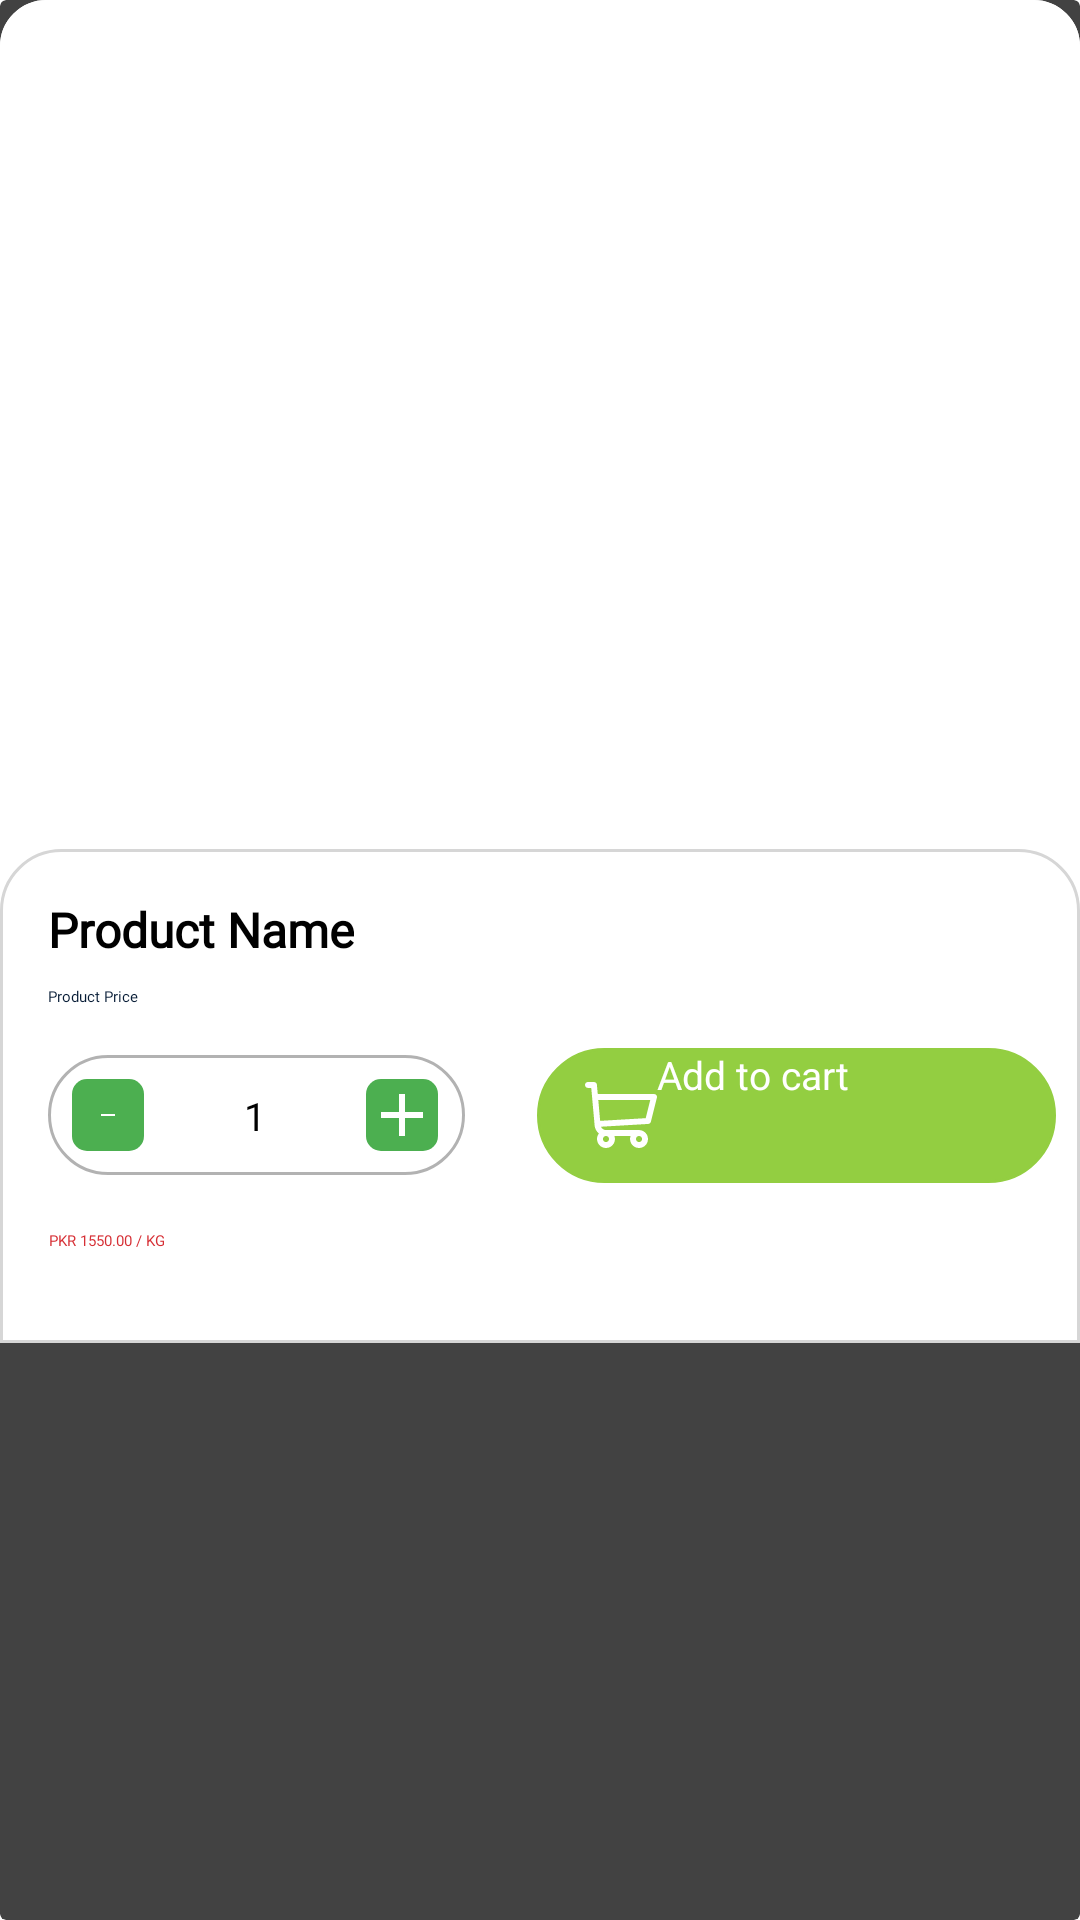

Named icons in this screenshot (1080×1920) and their bounding boxes, bbox=[x1, y1, x2, y2]:
add product qty: bbox=[366, 1079, 438, 1151]
subtract product qty: bbox=[72, 1079, 144, 1151]
